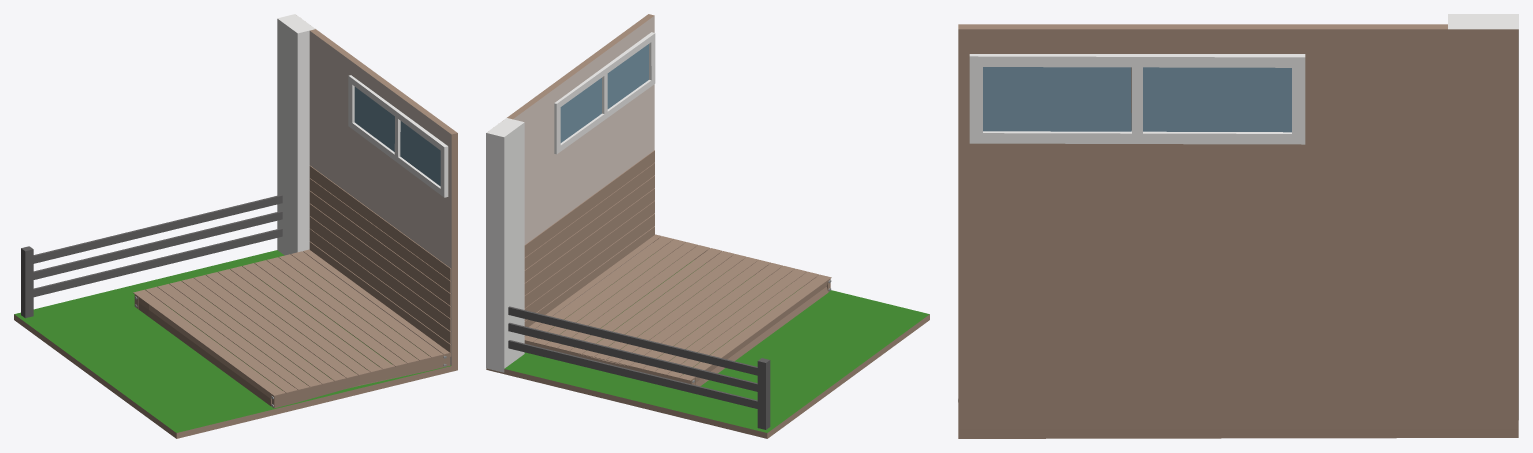
The model's file is room_05.glb.
3 views of the same model, side by side, from view 1: azimuth 30°, elevation 25°; view 2: azimuth 150°, elevation 25°; view 3: azimuth 270°, elevation 25° (orthographic). The views are drawn at different scales.
Parts seen in each view (by area): view 1: room_05; view 2: room_05; view 3: room_05.
Boxes of the visible parts, x1,y1,x2,y2 form: room_05: (14,14,457,438); room_05: (486,14,929,438); room_05: (958,14,1518,438).
Bounding box in the file's own units: 5.07 × 4.03 × 5.
Materials: 1 (1 with a texture image).
